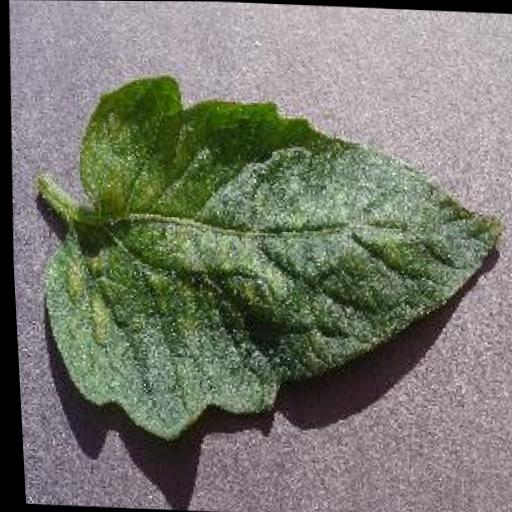Spider Mites: (26, 69, 512, 450)
